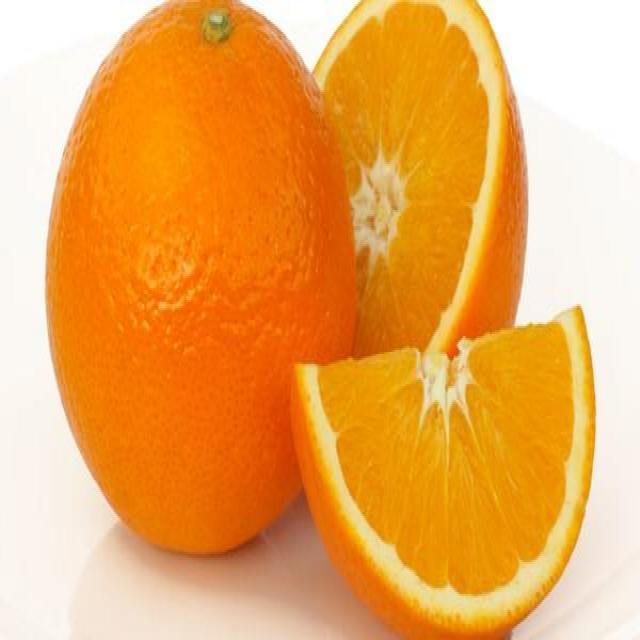orange: (45, 0, 356, 567), (292, 301, 598, 640), (302, 0, 528, 386)
